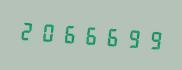nine: (143, 23, 163, 55), (122, 22, 142, 53)
six: (59, 17, 79, 49), (101, 20, 121, 52), (80, 19, 100, 50)
two: (17, 14, 37, 46)
zero: (38, 16, 58, 47)
